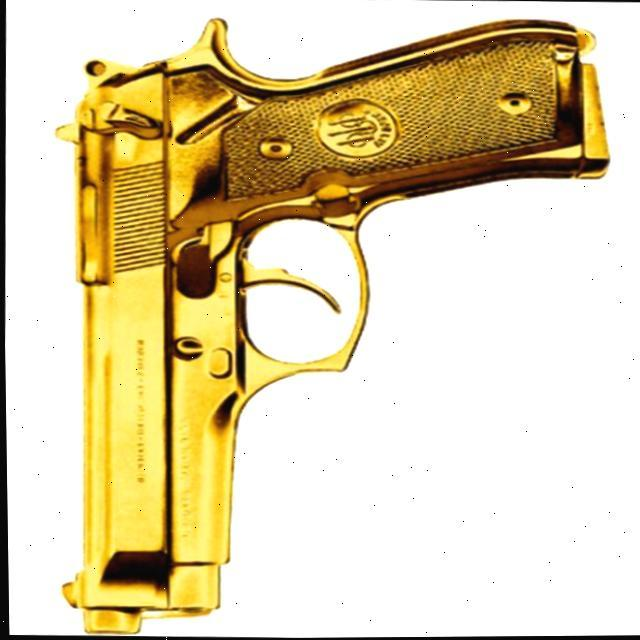gun: (43, 12, 616, 640)
